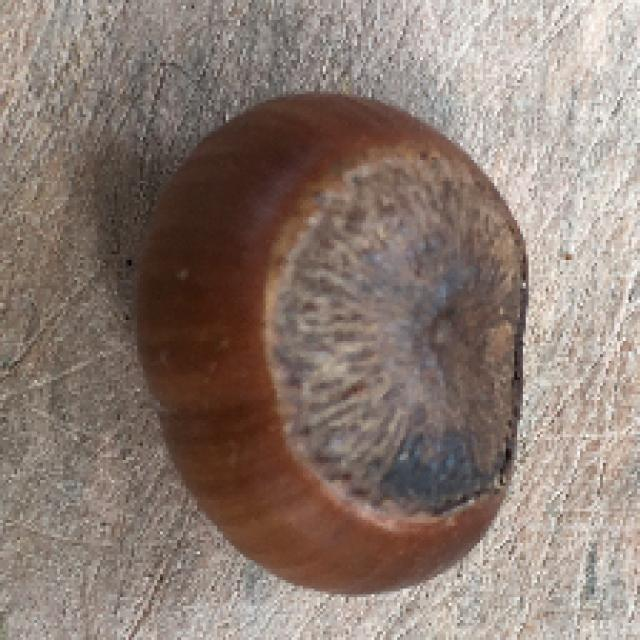qualityHazelnut: (128, 82, 532, 596)
